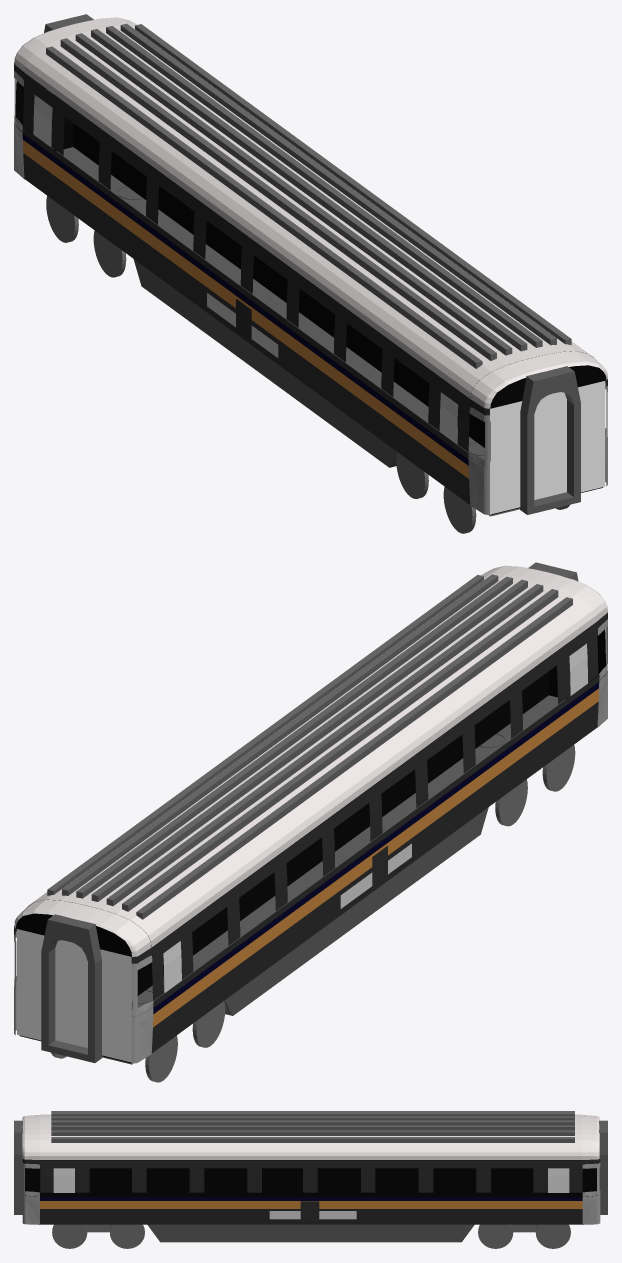
3 renders of one model, top to bottom at view 1: azimuth 30°, elevation 25°; view 2: azimuth 150°, elevation 25°; view 3: azimuth 270°, elevation 25°, orthographic. The views are drawn at different scales.
Parts seen in each view (by area): view 1: Suzanne_001, Plane_007, Plane_001, Plane_111, Cube_010, Cube, Cube_011, Cube_008, Cube_009, Cube_004, Plane_002, Cube_002 (+16 smaller); view 2: Suzanne_001, Plane_007, Plane_100, Plane_111, Cube, Cube_010, Cube_011, Cube_008, Cube_009, Cube_004, Plane_002, Cube_002 (+15 smaller); view 3: Plane_111, Plane_134, Suzanne_001, Cube, Cube_002, Cube_003, Cube_004, Cube_008, Plane_135, Plane_136, Cube_009, Cube_010 (+29 smaller).
Boxes of the visible parts, box(x1,y1,x2,y2) form: Suzanne_001: box(24, 24, 593, 398); Plane_007: box(23, 140, 470, 504); Plane_001: box(490, 381, 605, 514); Plane_111: box(73, 109, 484, 447); Cube_010: box(60, 38, 496, 360); Cube: box(133, 259, 396, 467); Cube_011: box(46, 46, 482, 368); Cube_008: box(91, 29, 527, 351); Cube_009: box(75, 33, 512, 355); Cube_004: box(106, 26, 542, 347); Plane_002: box(56, 147, 489, 468); Cube_002: box(120, 23, 556, 345); Suzanne_001: box(28, 573, 596, 947); Plane_007: box(151, 688, 598, 1053); Plane_100: box(17, 929, 132, 1062); Plane_111: box(135, 657, 548, 995); Cube: box(224, 807, 488, 1015); Cube_010: box(122, 589, 558, 911); Cube_011: box(136, 597, 572, 919); Cube_008: box(91, 579, 527, 901); Cube_009: box(106, 584, 543, 906); Cube_004: box(76, 576, 512, 898); Plane_002: box(133, 695, 565, 1016); Cube_002: box(62, 574, 498, 895); Plane_111: box(25, 1159, 596, 1196); Plane_134: box(40, 1201, 582, 1224); Suzanne_001: box(40, 1114, 582, 1159); Cube: box(147, 1224, 474, 1242); Cube_002: box(51, 1130, 574, 1135); Cube_003: box(51, 1137, 574, 1142); Cube_004: box(51, 1125, 574, 1130); Cube_008: box(51, 1120, 574, 1125); Plane_135: box(40, 1160, 582, 1164); Plane_136: box(40, 1164, 582, 1168); Cube_009: box(51, 1116, 574, 1120); Cube_010: box(51, 1112, 574, 1116).
Bounding box in the file's own units: 2.14 × 13.39 × 2.81.
